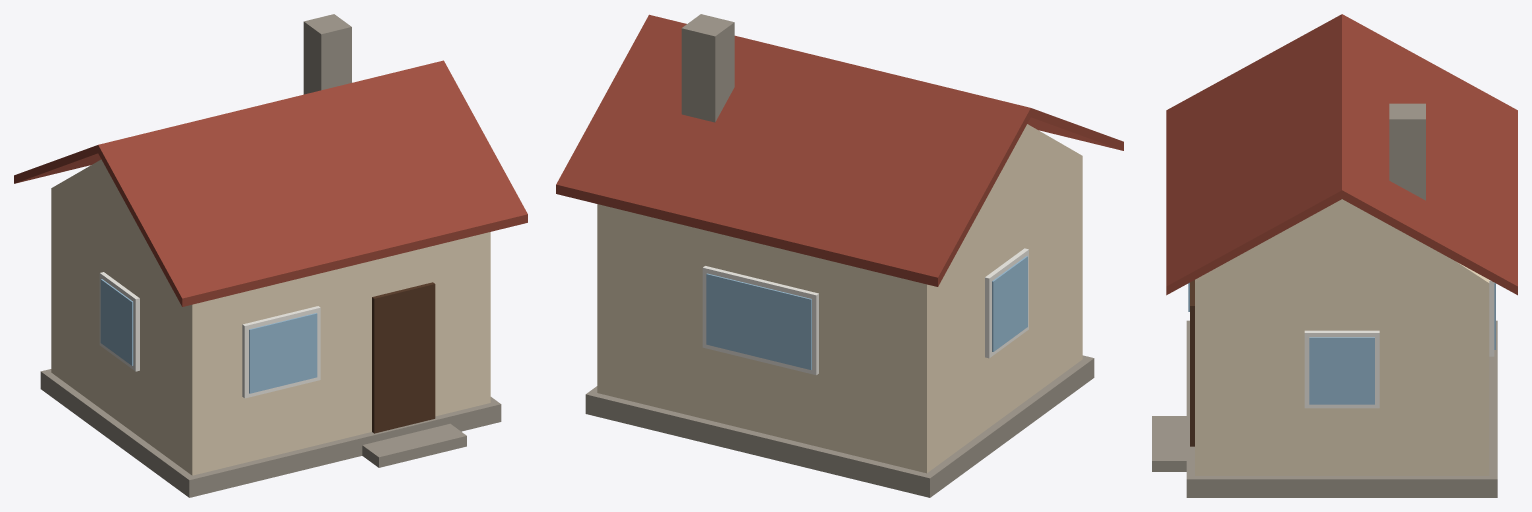
The model's file is house.glb.
The picture shows the model from 3 angles, left to right: view 1: azimuth 30°, elevation 25°; view 2: azimuth 150°, elevation 25°; view 3: azimuth 270°, elevation 25°; orthographic projection. The views are drawn at different scales.
Visible parts, largest first — view 1: roof, walls, foundation, door, win_front_glass, gable_left, chimney, door_step, win_left_glass, win_front_frame, win_left_frame; view 2: walls, roof, foundation, win_back_glass, chimney, gable_left, win_left_glass, win_back_frame, win_left_frame; view 3: roof, walls, gable_right, foundation, win_right_glass, chimney, door_step, win_right_frame, door, win_back_frame.
Part boxes in pixels (x1,y1,x2,y2): roof: [14, 60, 527, 306]; walls: [51, 188, 490, 475]; foundation: [40, 369, 501, 497]; door: [372, 282, 435, 433]; win_front_glass: [249, 313, 317, 393]; gable_left: [51, 159, 160, 267]; chimney: [303, 14, 351, 94]; door_step: [362, 423, 466, 467]; win_left_glass: [100, 279, 133, 365]; win_front_frame: [242, 306, 320, 398]; win_left_frame: [99, 272, 139, 371]; walls: [597, 156, 1082, 473]; roof: [556, 14, 1123, 286]; foundation: [585, 355, 1094, 497]; win_back_glass: [706, 273, 811, 369]; chimney: [681, 14, 734, 122]; gable_left: [962, 124, 1081, 243]; win_left_glass: [992, 256, 1027, 351]; win_back_frame: [702, 266, 818, 375]; win_left_frame: [985, 248, 1028, 358]; roof: [1166, 14, 1517, 295]; walls: [1195, 283, 1489, 475]; gable_right: [1195, 199, 1489, 283]; foundation: [1186, 320, 1497, 497]; win_right_glass: [1309, 337, 1374, 404]; chimney: [1389, 103, 1425, 200]; door_step: [1152, 416, 1186, 471]; win_right_frame: [1304, 330, 1379, 408]; door: [1190, 280, 1194, 446]; win_back_frame: [1489, 280, 1494, 356].
Size of the model in its own units: 5.1 by 4.75 by 4.47.
